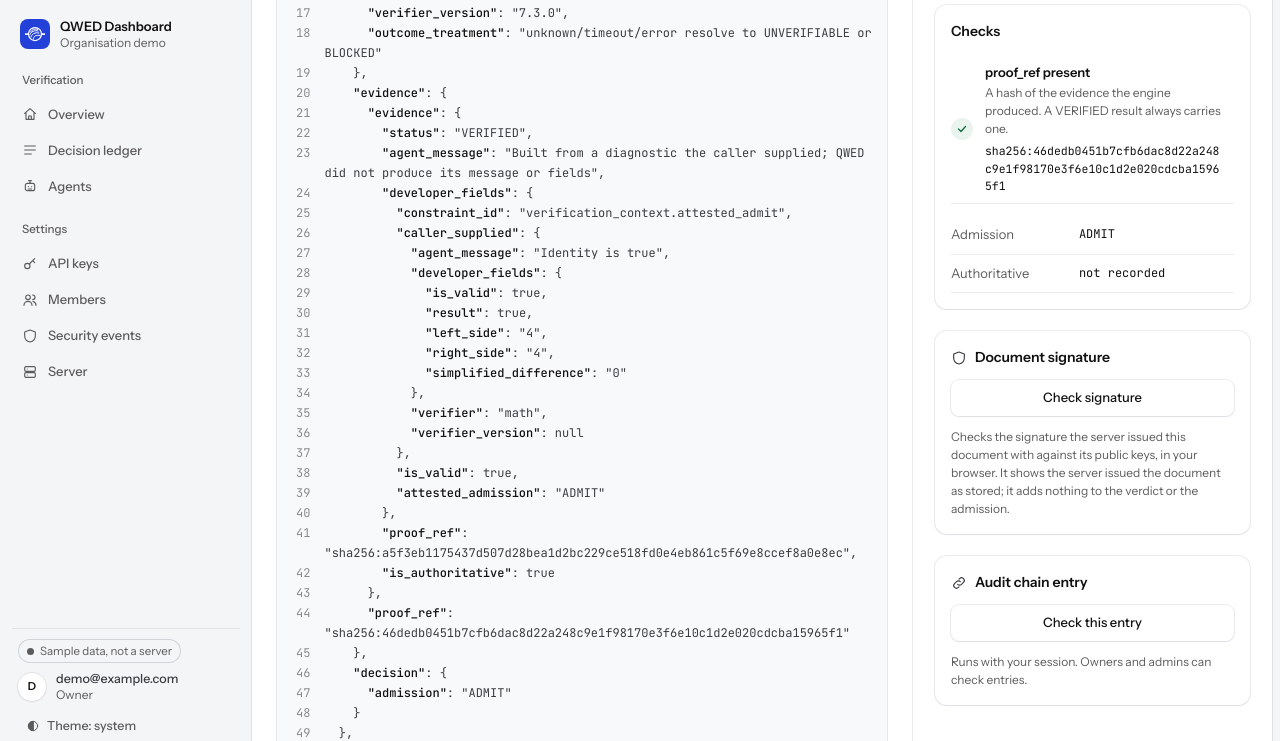
Test case: DocumentSignatureCheck › checks a stored document’s signature with the server’s keys
This screenshot has width=1280, height=741.
(page scrolled)
Expected: the text "it adds nothing to the verdict or the admission" is shown, [951,429,1221,516]
Click the button "Check signature": click(1092, 398) [951,380,1234,416]
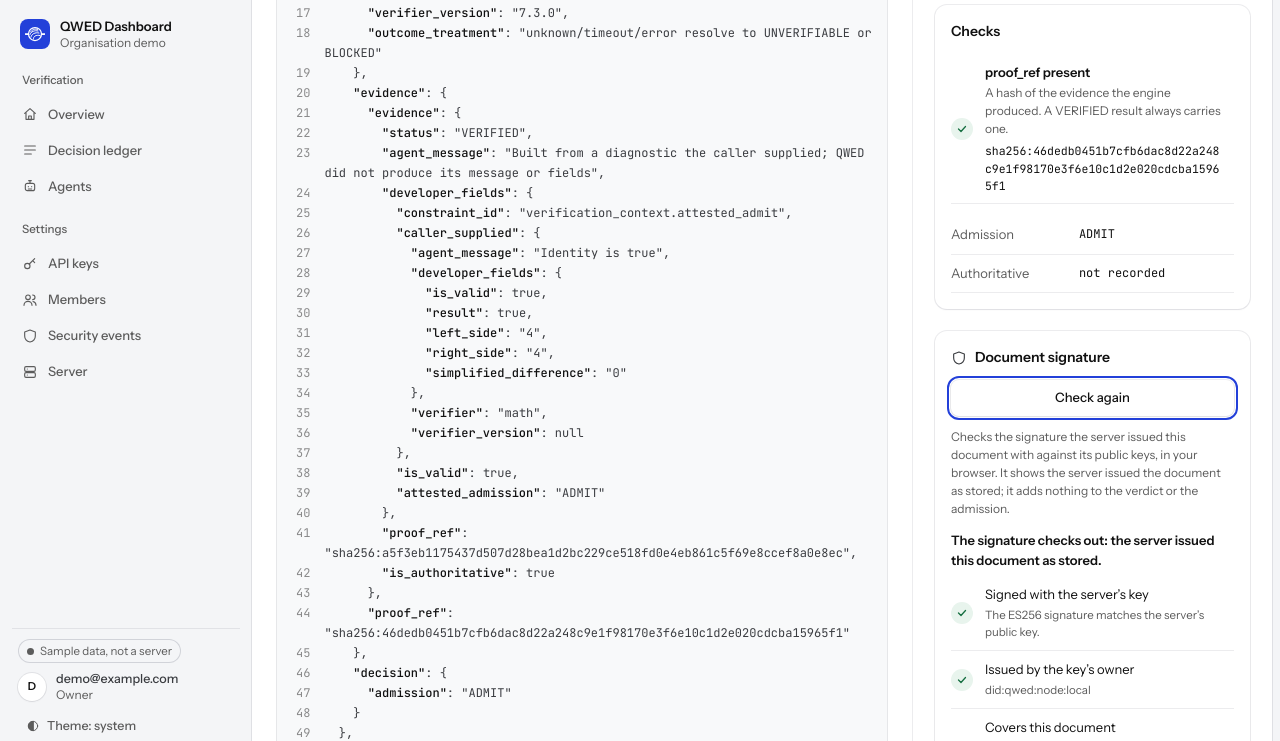
Expected: the text "The signature checks out: the server issued this document as stored." is shown, [951,530,1234,570]
Expected: the text "Signed with the server’s key" is shown, [985,586,1149,602]
Expected: the text "Issued by the key’s owner" is shown, [985,662,1134,678]
